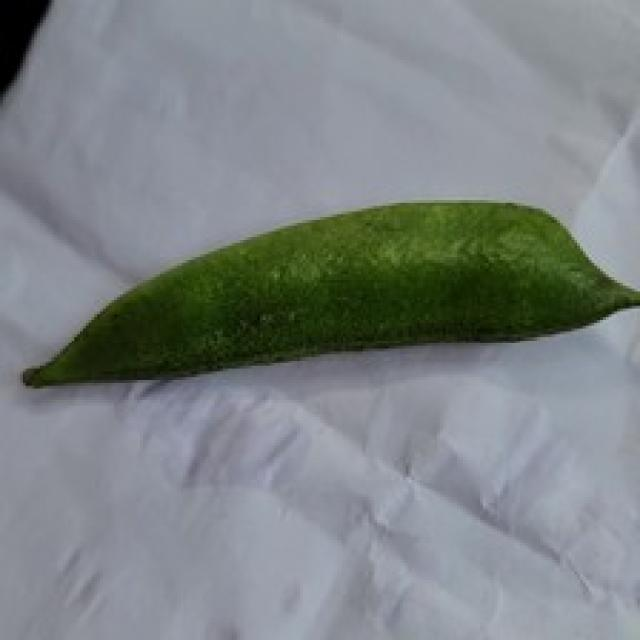Bean: (20, 194, 637, 389)
